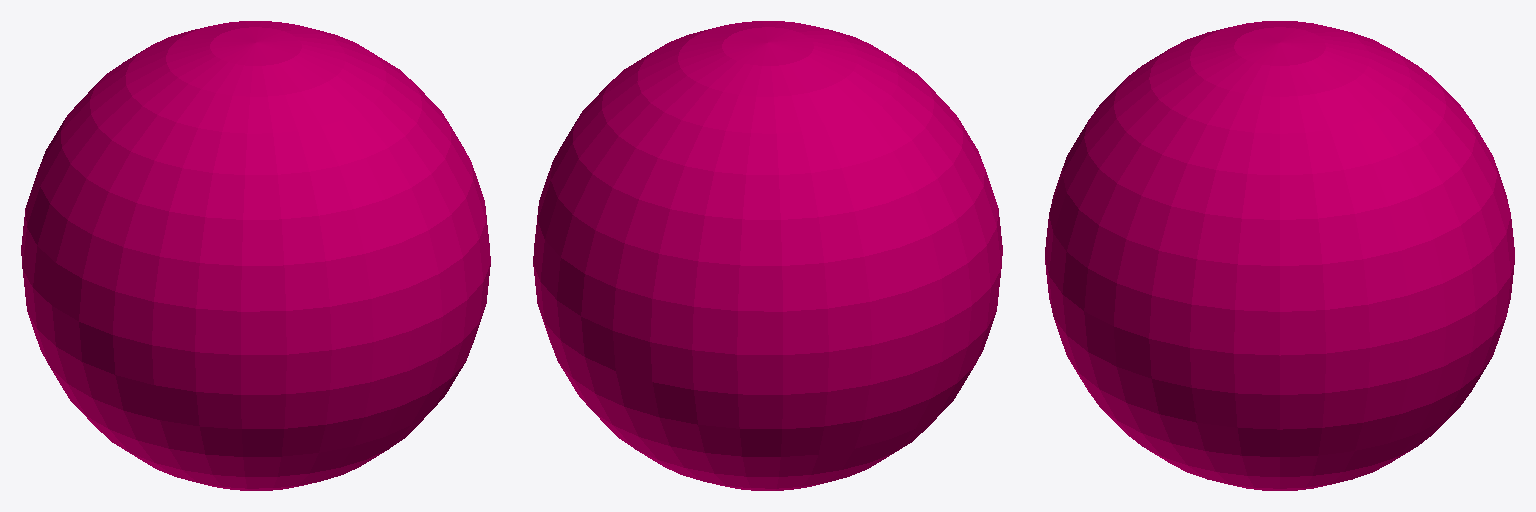
The model's file is transparent_sphere.obj.
3 renders of one model, left to right at view 1: azimuth 30°, elevation 25°; view 2: azimuth 150°, elevation 25°; view 3: azimuth 270°, elevation 25°, orthographic.
Visible parts, largest first — view 1: Sphere; view 2: Sphere; view 3: Sphere.
Boxes of the visible parts, x1,y1,x2,y2 form: Sphere: [21, 21, 490, 490]; Sphere: [533, 21, 1002, 490]; Sphere: [1045, 21, 1514, 490].
Size of the model in its own units: 96.27 by 96.27 by 96.27.